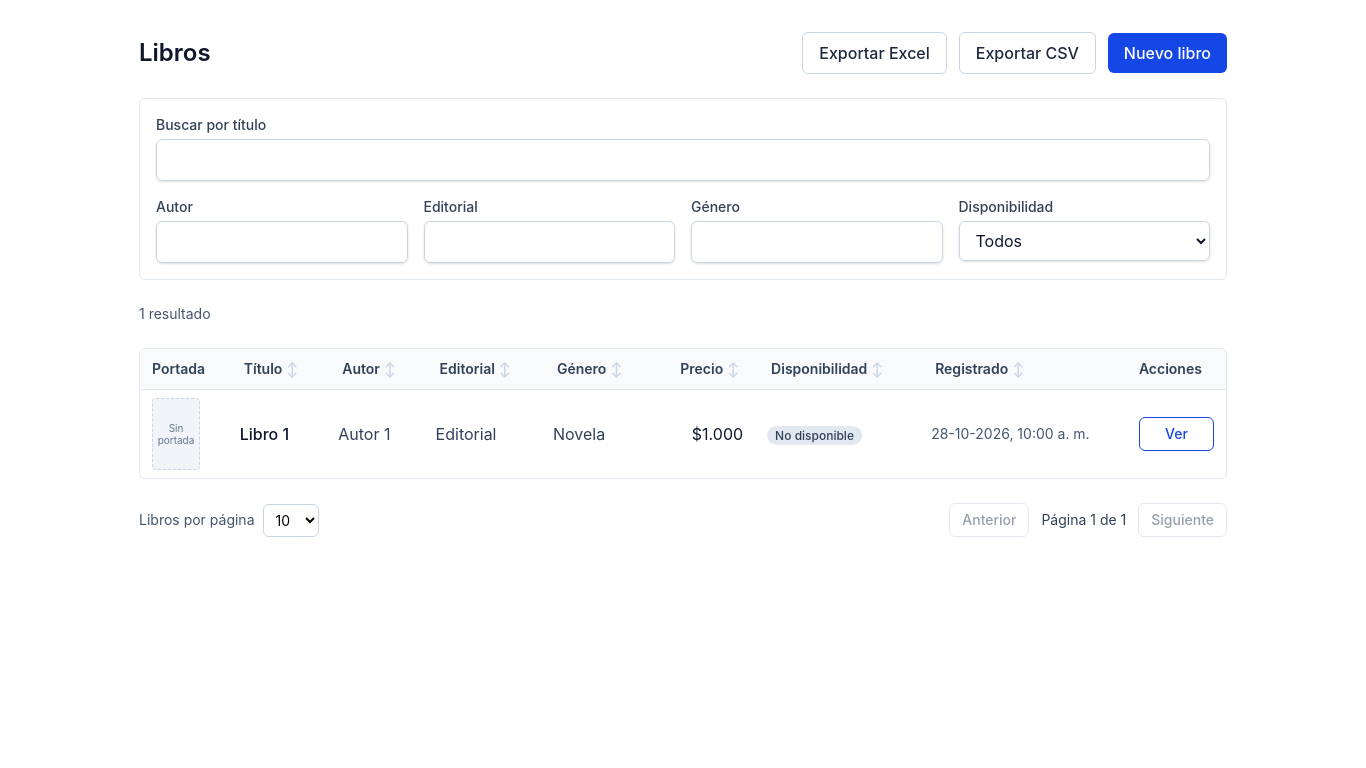
it: BooksPage › export to Excel › explains in Spanish that there are too many books for Excel and keeps the list
The image size is (1366, 768).
Expected: the text "1 resultado" is shown, [139, 304, 211, 324]
Click the button "Exportar Excel" at (875, 53), box [802, 32, 947, 74]
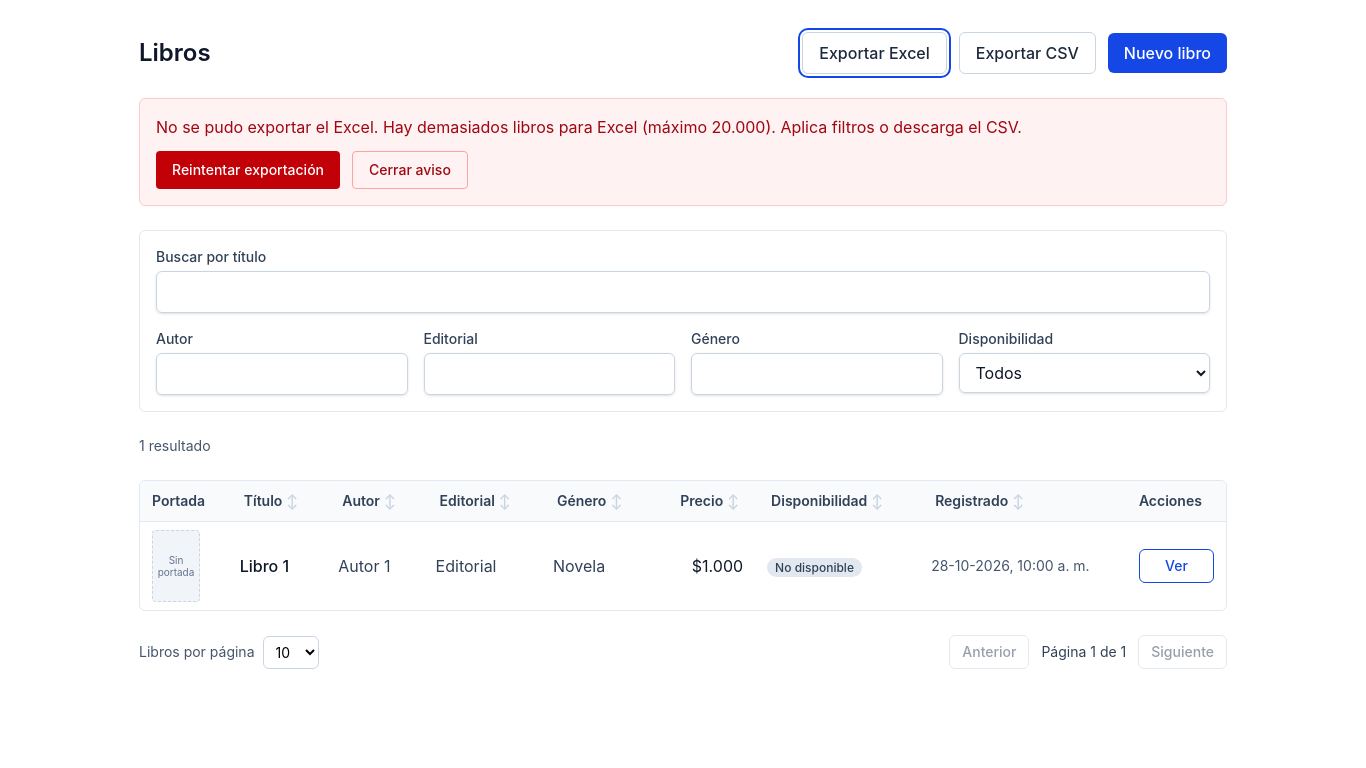
Expected: the link with aria-label "Ver detalle de Libro 1" is shown, [1139, 549, 1214, 583]
Result: the message that starts with "No se pudo exportar el" shows "No se pudo exportar el Excel." at [139, 98, 1227, 206]
Result: the message that starts with "No se pudo exportar el" shows "Hay demasiados libros para Excel (máximo 20.000). Aplica filtros o descarga el CSV." at [383, 117, 1022, 137]
